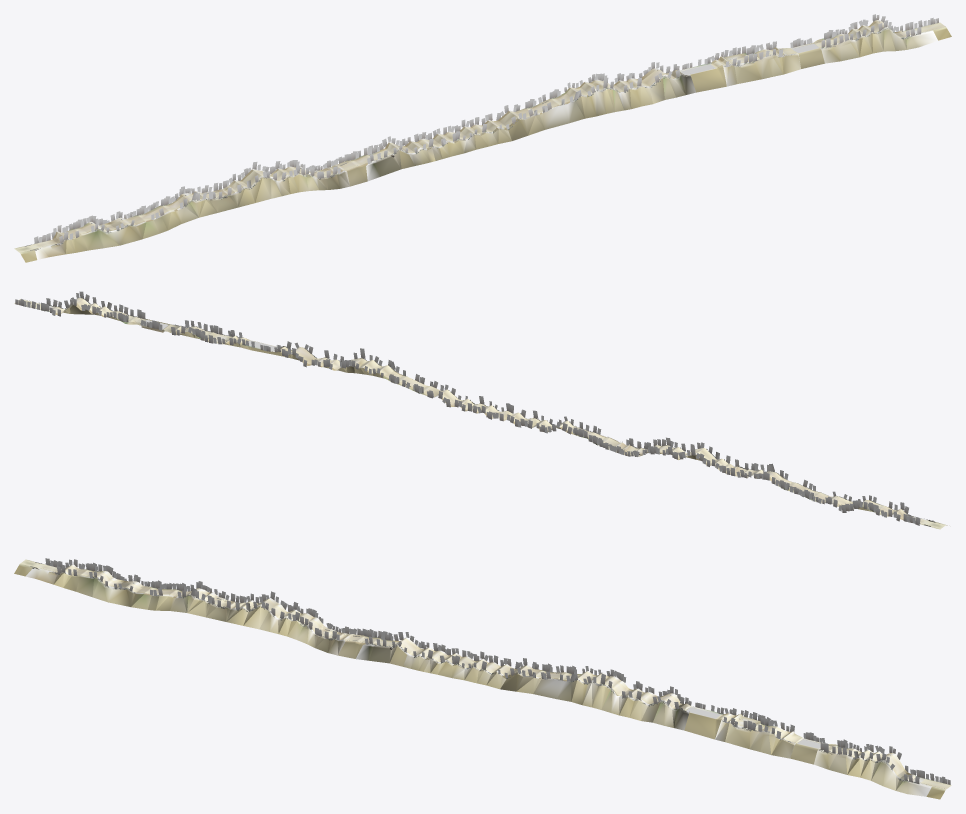
The model's file is Beach_08.fbx.
3 renders of one model, top to bottom at view 1: azimuth 30°, elevation 25°; view 2: azimuth 150°, elevation 25°; view 3: azimuth 330°, elevation 25°, orthographic.
Visible parts, largest first — view 1: Mountain_01, Tree_01, Ground_01, Road_01; view 2: Tree_01, Ground_01, Road_01; view 3: Mountain_01, Tree_01, Road_01, Ground_01.
Part boxes in pixels (x1,y1,x2,y2): Mountain_01: [35, 26, 937, 259]; Tree_01: [34, 14, 938, 250]; Ground_01: [15, 21, 945, 252]; Road_01: [14, 20, 951, 262]; Tree_01: [15, 291, 933, 525]; Ground_01: [18, 298, 945, 528]; Road_01: [14, 299, 947, 529]; Mountain_01: [25, 568, 931, 796]; Tree_01: [32, 558, 950, 784]; Road_01: [14, 559, 951, 799]; Ground_01: [20, 560, 950, 789].
Size of the model in its own units: 121298 by 5599 by 3944.
